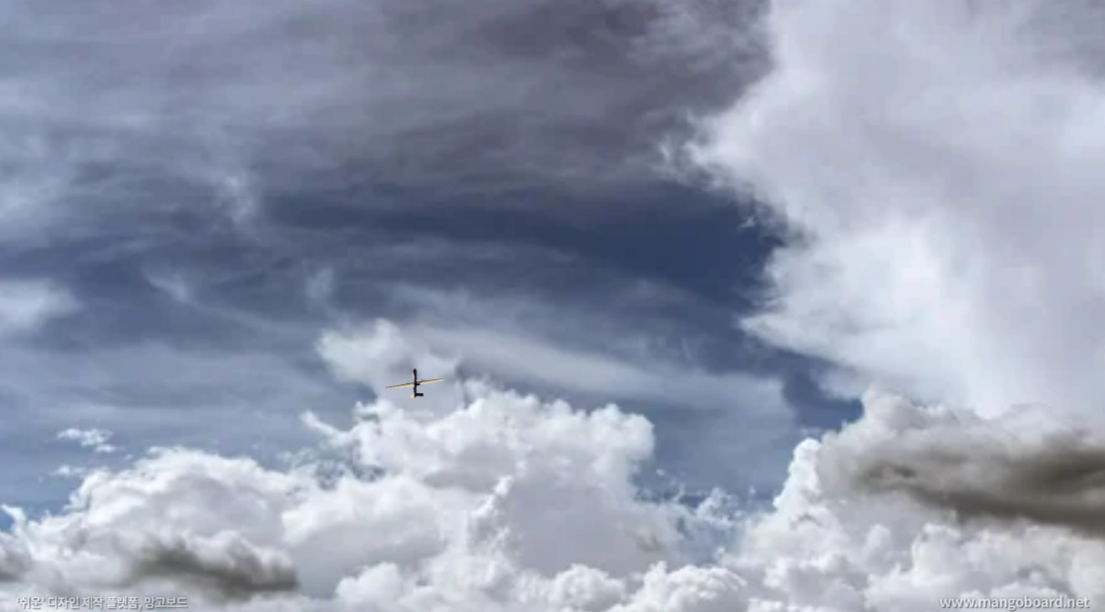military drone: (384, 367, 445, 398)
